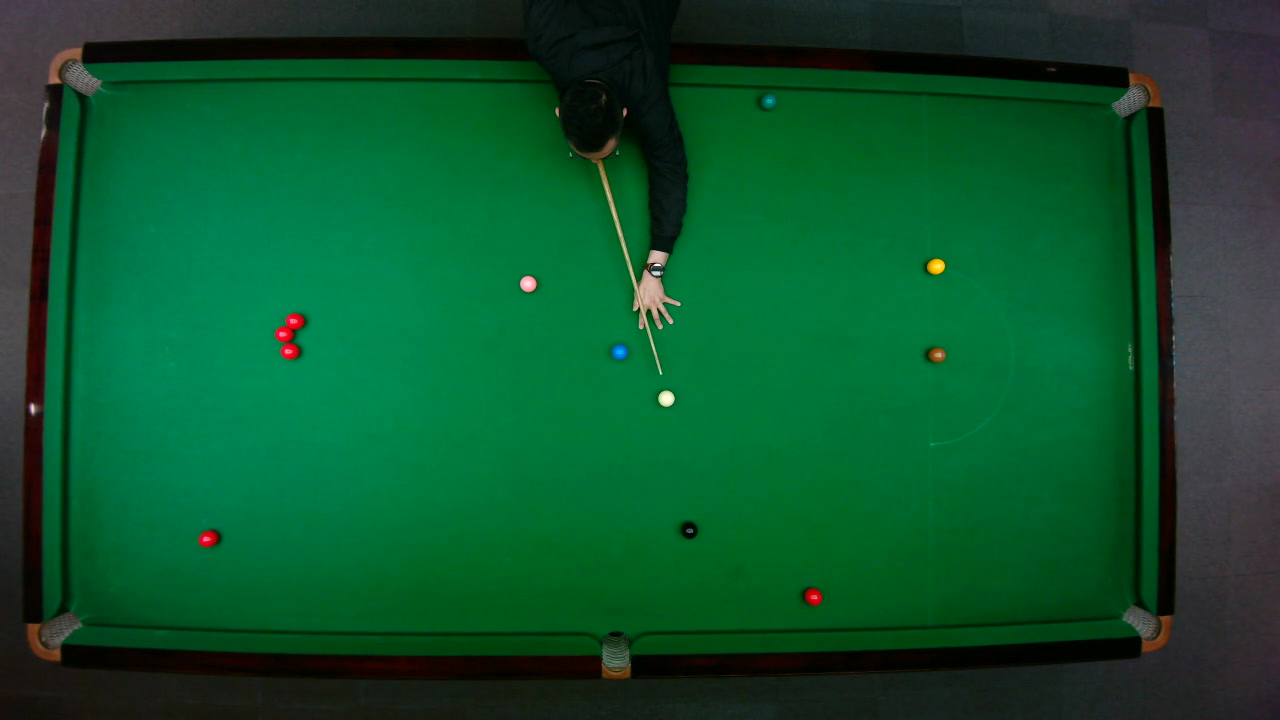bag: (25, 609, 83, 662), (45, 46, 102, 96), (1119, 603, 1171, 652), (1108, 71, 1161, 118), (600, 629, 629, 680)
black: (679, 521, 697, 538)
blue: (610, 343, 628, 360)
brown: (926, 346, 946, 362)
cue: (594, 154, 666, 377)
green: (759, 92, 776, 110)
pink: (518, 274, 537, 292)
red: (196, 528, 219, 547), (284, 311, 305, 330), (803, 587, 823, 606), (279, 342, 300, 360), (273, 324, 293, 342)
white: (656, 388, 675, 407)
yellow: (925, 257, 945, 274)
zone: (927, 267, 1014, 445)
